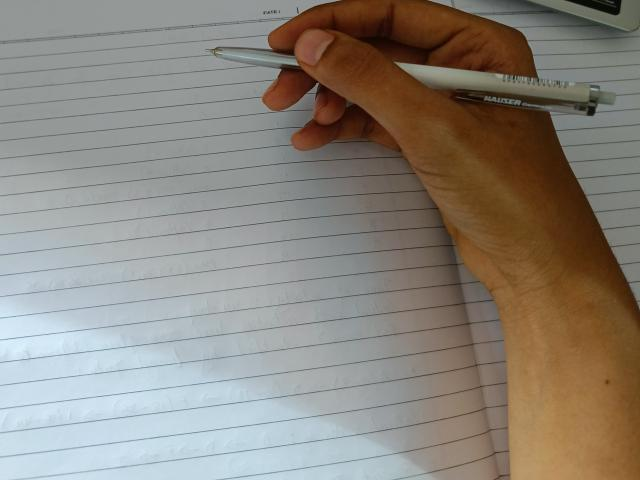PEN: (207, 38, 620, 119)
